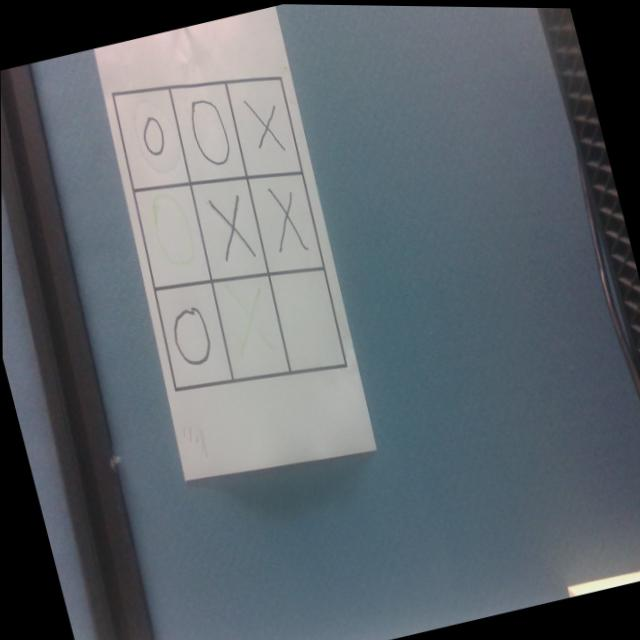null: (267, 261, 347, 377)
o: (143, 188, 198, 271), (185, 92, 235, 170), (167, 303, 215, 368), (136, 113, 168, 158)
table: (94, 47, 357, 412)
x: (218, 282, 277, 360), (242, 85, 290, 158), (208, 191, 256, 263), (262, 183, 307, 256)
